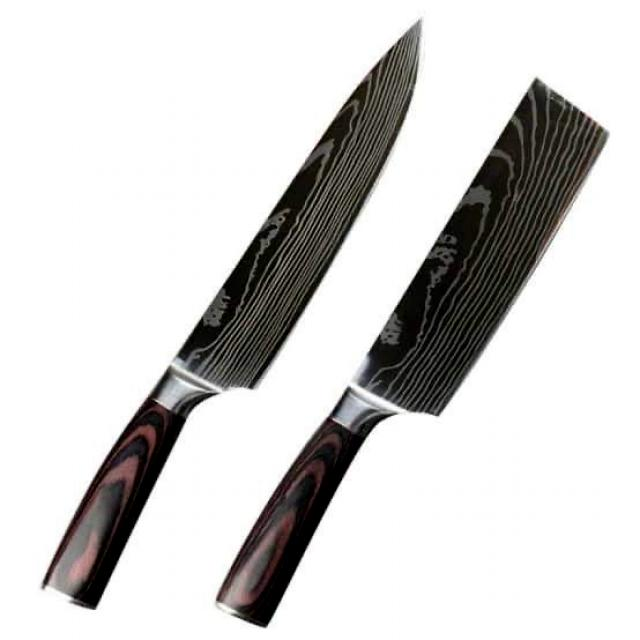knife: (33, 14, 617, 634)
